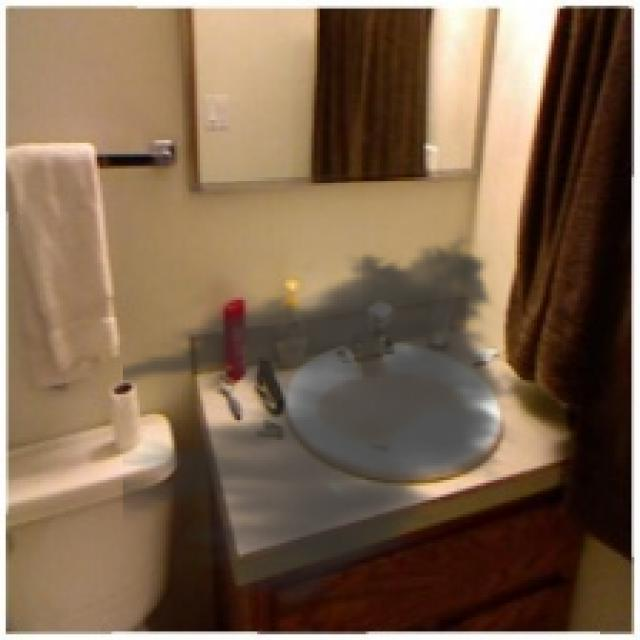Smoke: (123, 225, 526, 618)
